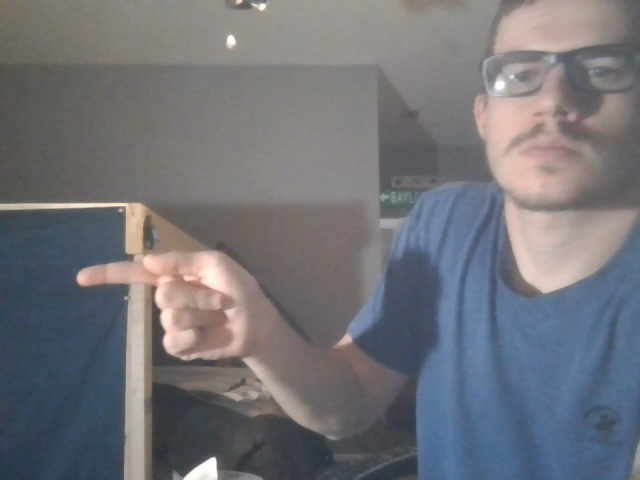G: (64, 248, 267, 380)
